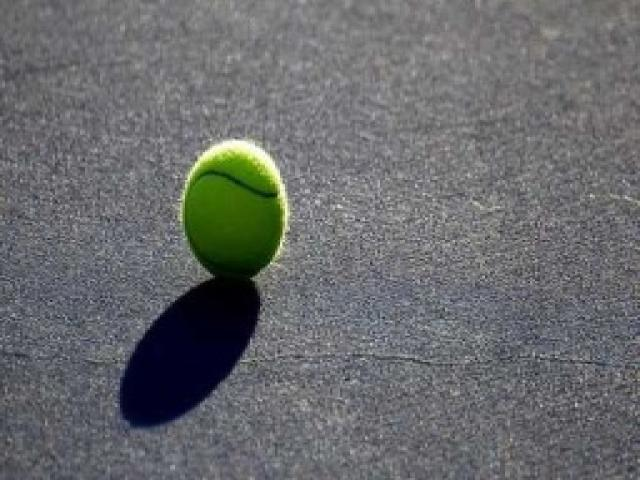tennis-ball: (184, 138, 290, 278)
